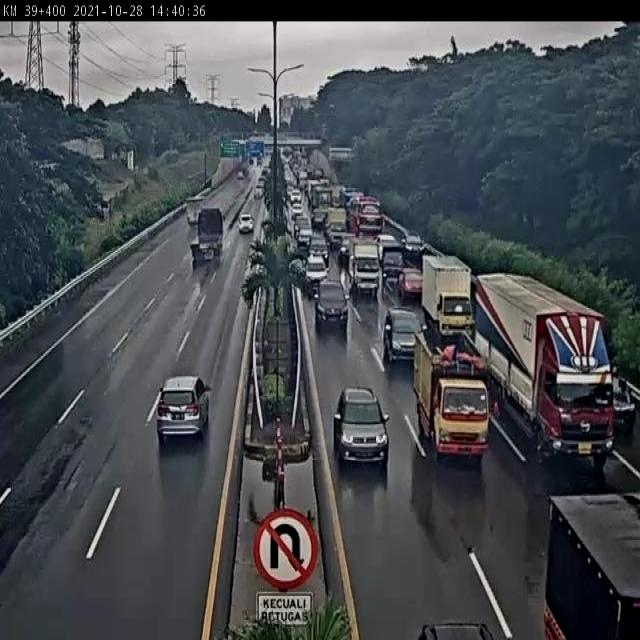Bus: (349, 194, 385, 234)
Car: (331, 383, 393, 471), (157, 373, 213, 445), (310, 278, 352, 332), (382, 309, 425, 358), (304, 256, 330, 293), (398, 267, 425, 300), (402, 232, 426, 261), (308, 238, 332, 260), (238, 213, 258, 234), (296, 230, 313, 250)
Truck: (474, 269, 614, 466), (544, 492, 640, 640), (412, 328, 493, 462), (423, 256, 477, 342), (189, 203, 225, 266), (350, 238, 381, 296), (379, 239, 406, 285)
